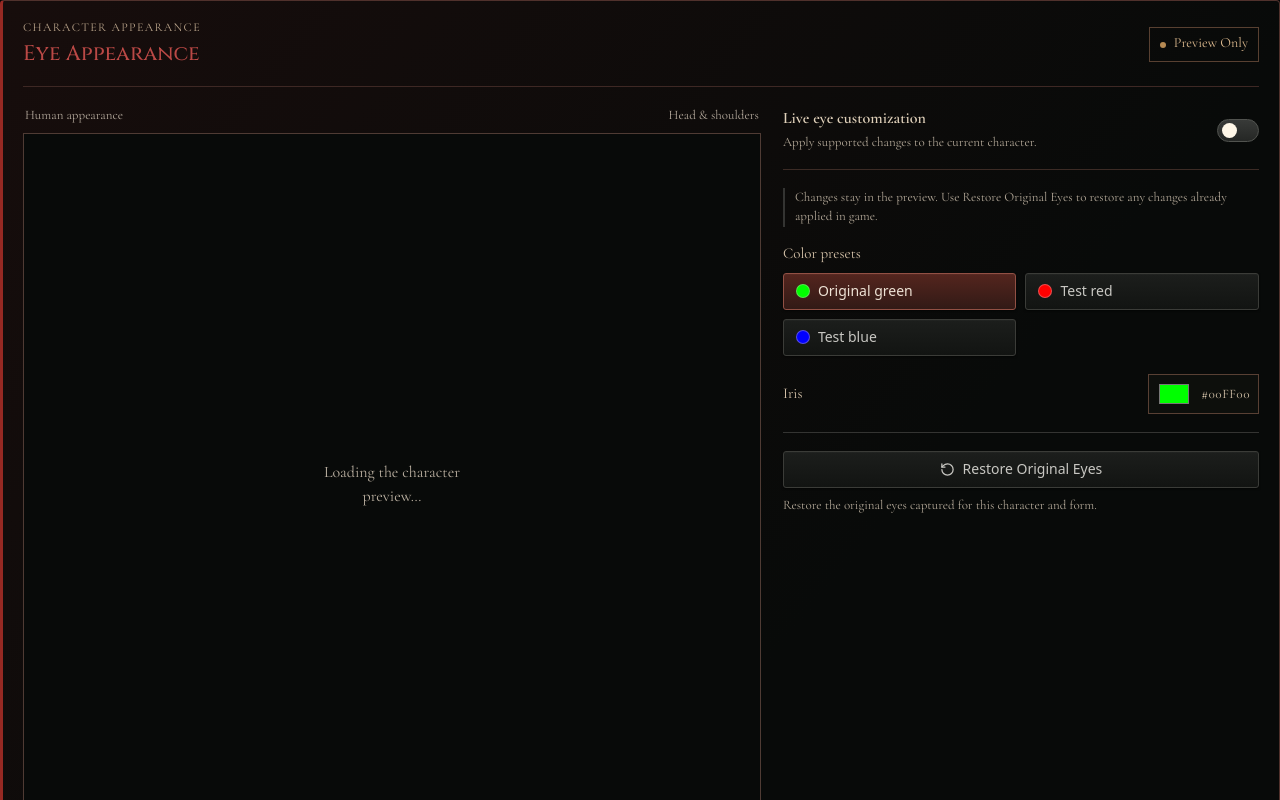
Test case: isolated Eye Appearance component with mocked native adapters › blocks duplicate activation and restores OFF after a rejected live enable
Click the switch labelled "Live eye customization".
click(1238, 130)  # box [1217,119,1259,142]
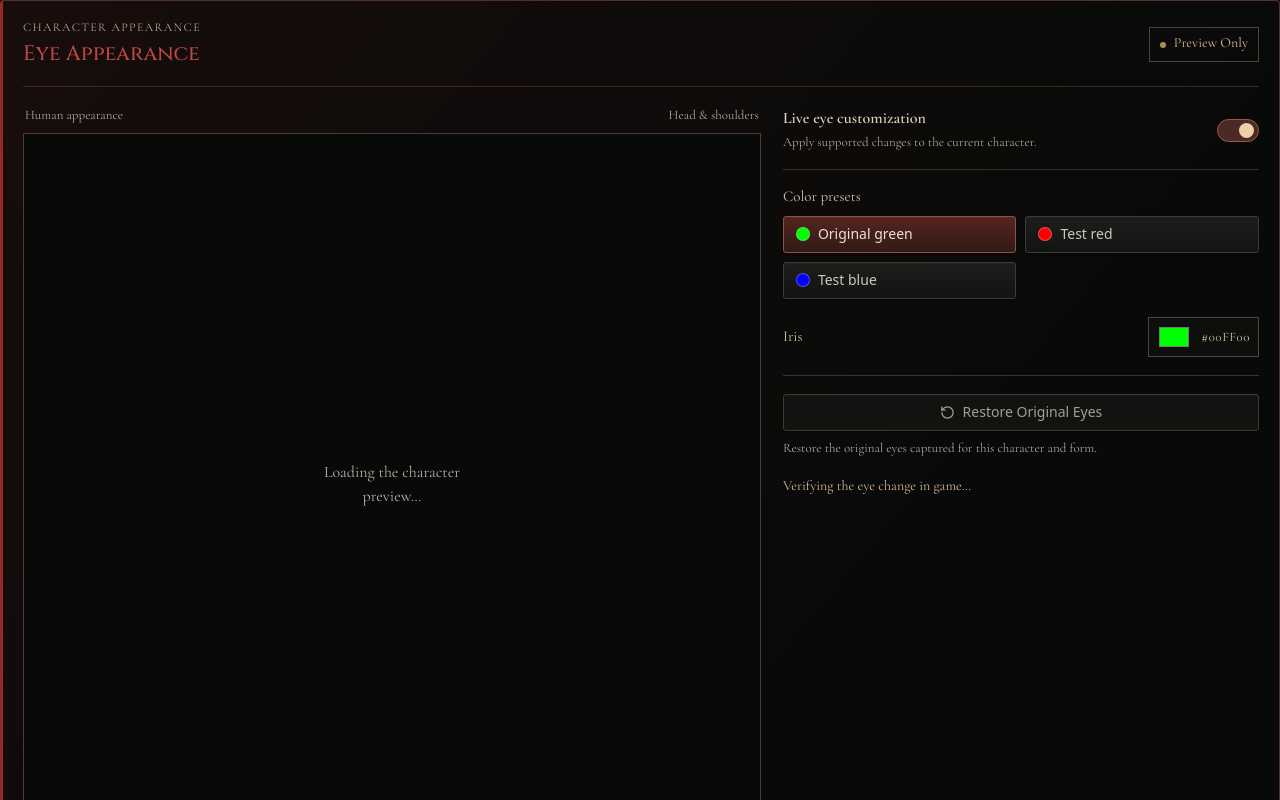
Check: the switch labelled "Live eye customization" is disabled
Click the switch labelled "Live eye customization".
click(1238, 130)  # box [1217,119,1259,142]
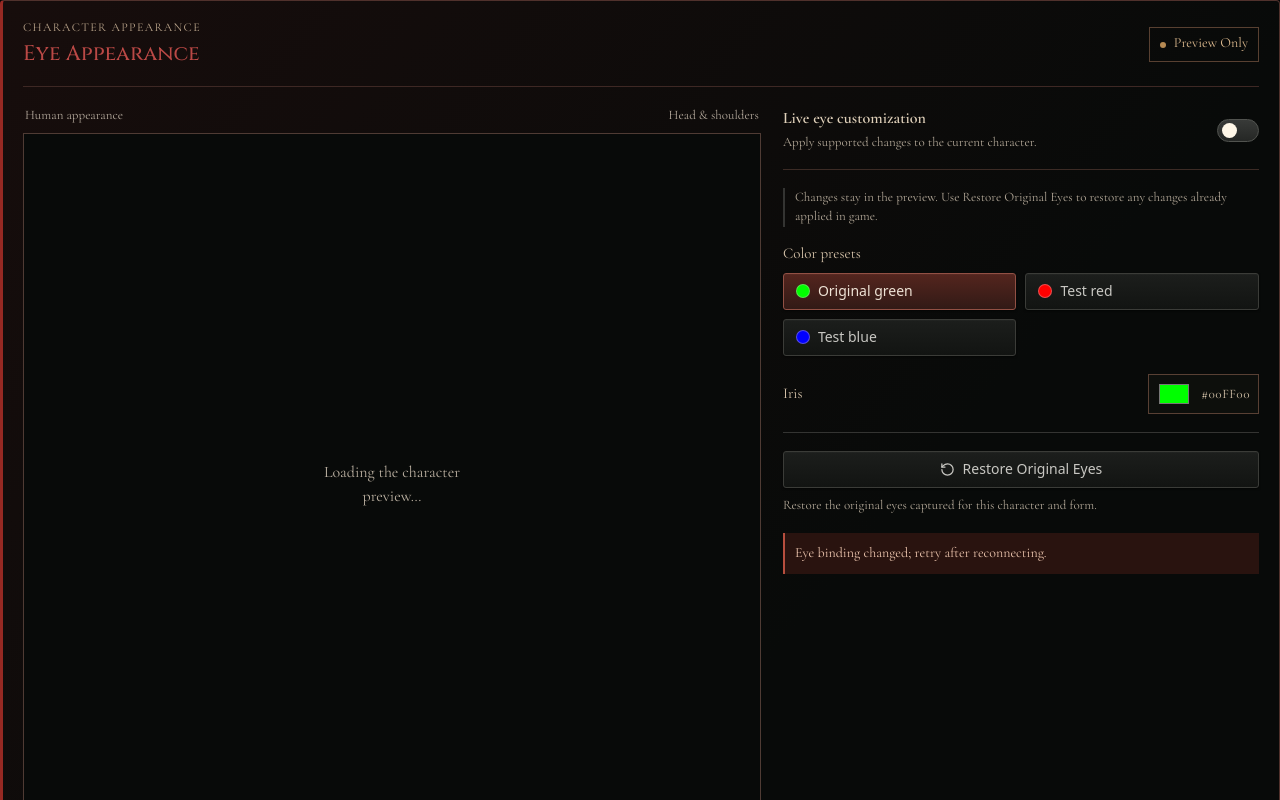
Check: the switch labelled "Live eye customization" is not checked, box [1217,119,1259,142]
Check: the switch labelled "Live eye customization" is enabled, box [1217,119,1259,142]
Check: the message "Eye binding changed; retry after reconnecting." is shown, box [783,533,1259,574]
